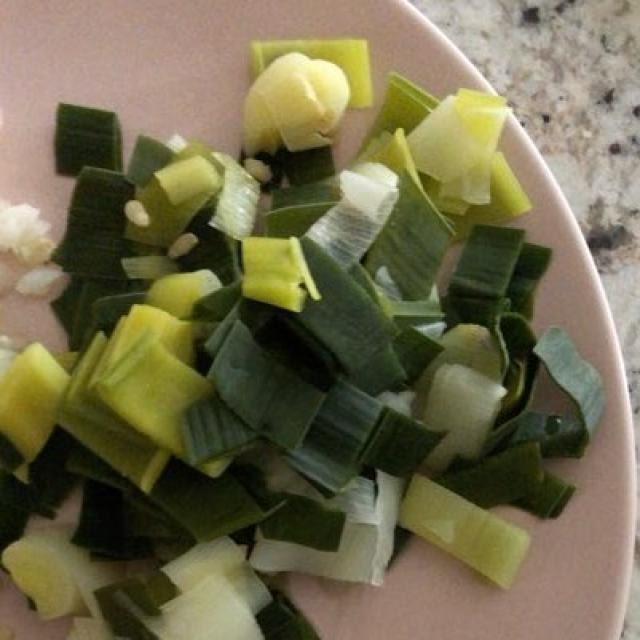leek: (22, 30, 580, 606)
